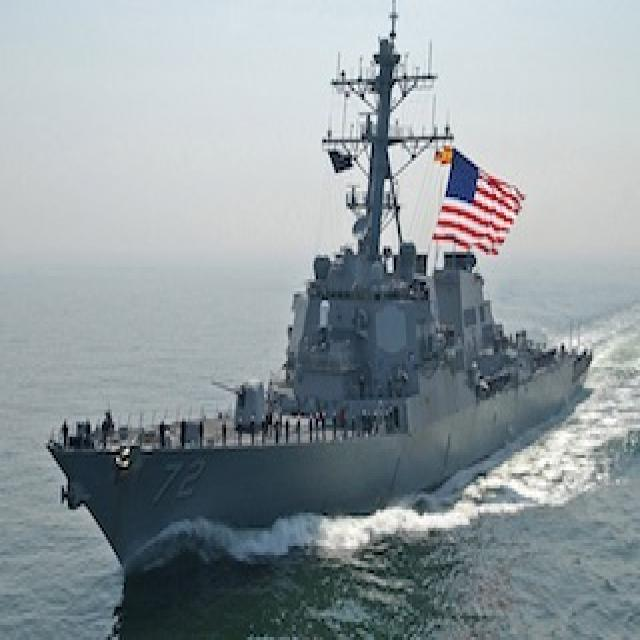navalvessels: (39, 67, 616, 585)
